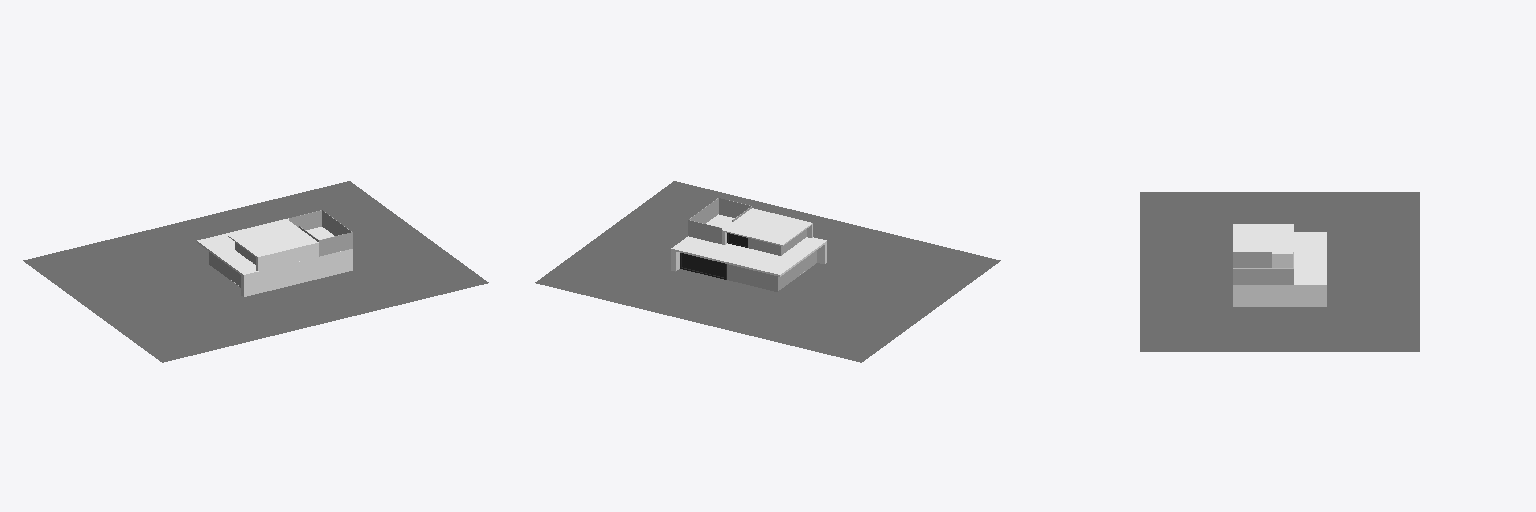
The model's file is HouseOBJ.obj.
The picture shows the model from 3 angles: view 1: azimuth 30°, elevation 25°; view 2: azimuth 150°, elevation 25°; view 3: azimuth 270°, elevation 25°; orthographic projection.
Visible parts, largest first — view 1: pPlane1, level_1 pCube1, level_2 pCube1; view 2: pPlane1, level_1 pCube1, level_2 pCube1, level_1 pCube11; view 3: pPlane1, level_1 pCube1, level_2 pCube1, level_2 pCube17, level_2 pCube16.
Boxes of the visible parts, box(x1,y1,x2,y2) form: pPlane1: box(23, 181, 488, 362); level_1 pCube1: box(197, 218, 352, 296); level_2 pCube1: box(228, 220, 318, 270); pPlane1: box(535, 181, 1000, 362); level_1 pCube1: box(671, 214, 826, 276); level_2 pCube1: box(722, 208, 812, 245); level_1 pCube11: box(680, 253, 726, 279); pPlane1: box(1140, 192, 1419, 351); level_1 pCube1: box(1233, 232, 1326, 306); level_2 pCube1: box(1233, 224, 1293, 267); level_2 pCube17: box(1233, 268, 1292, 284); level_2 pCube16: box(1233, 252, 1271, 267).
Bounding box in the file's own units: 98.55 × 13.34 × 72.86.